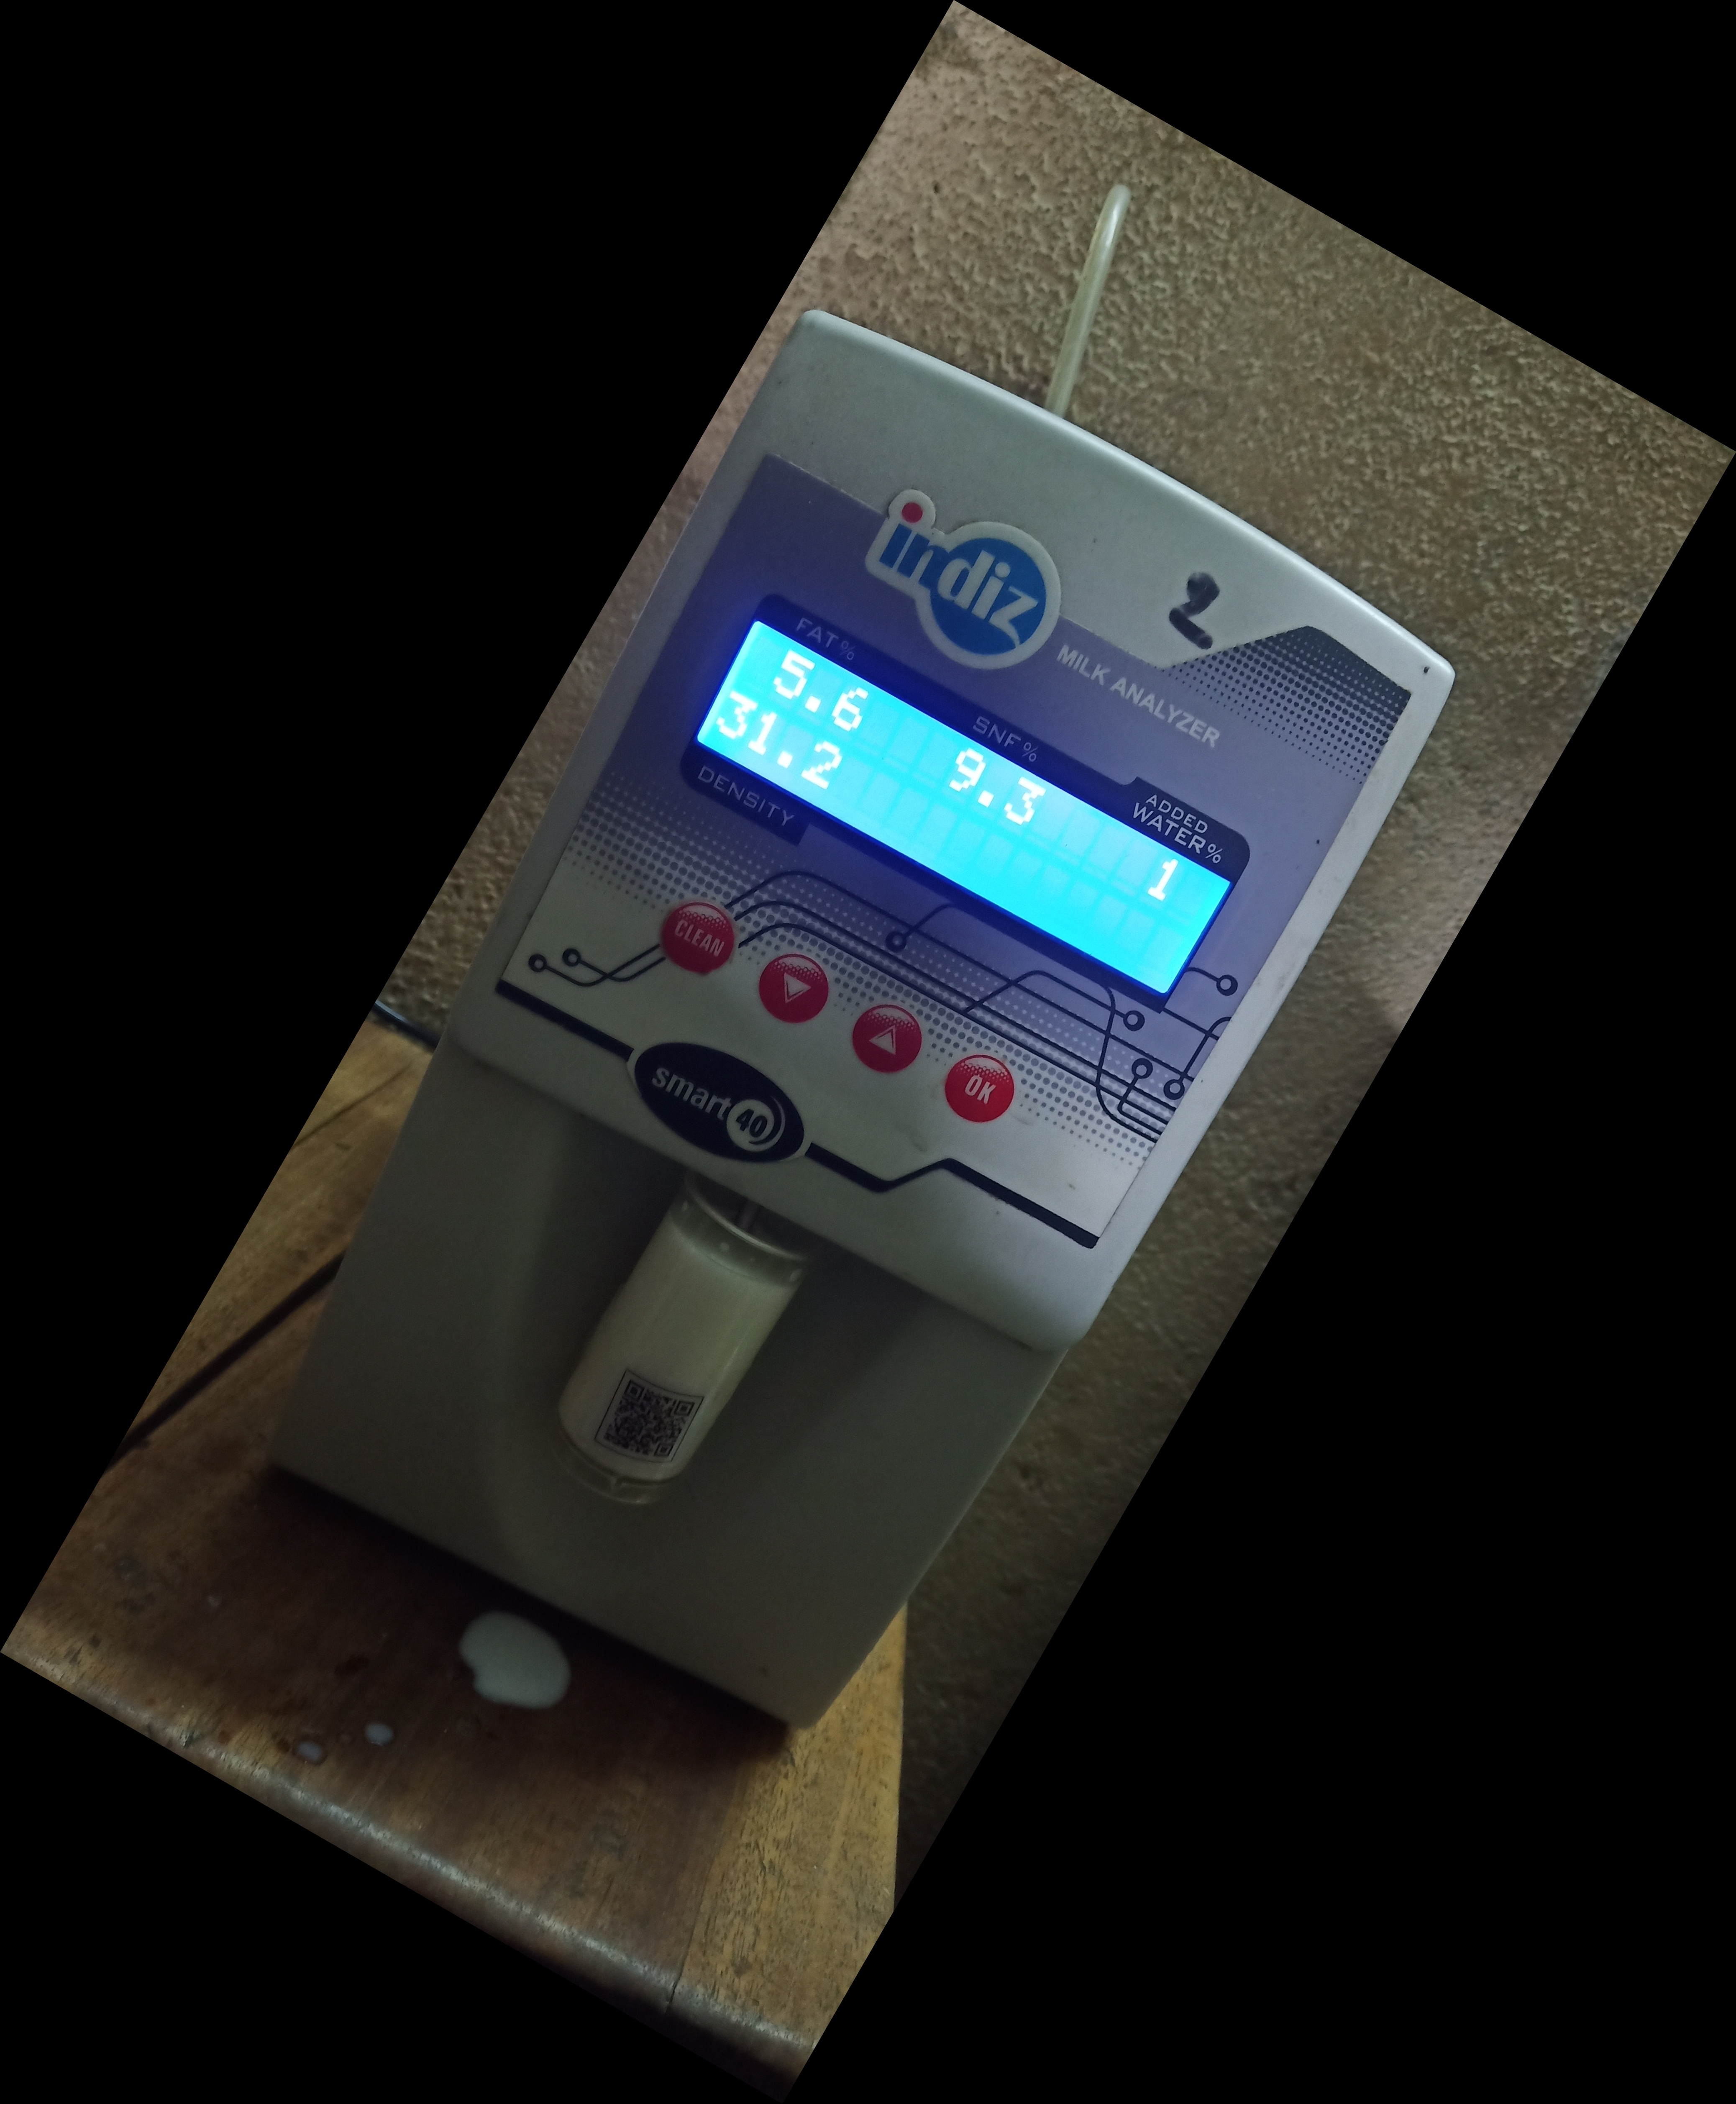lcd: (686, 594, 1242, 1038)
qr: (583, 1361, 702, 1487)
